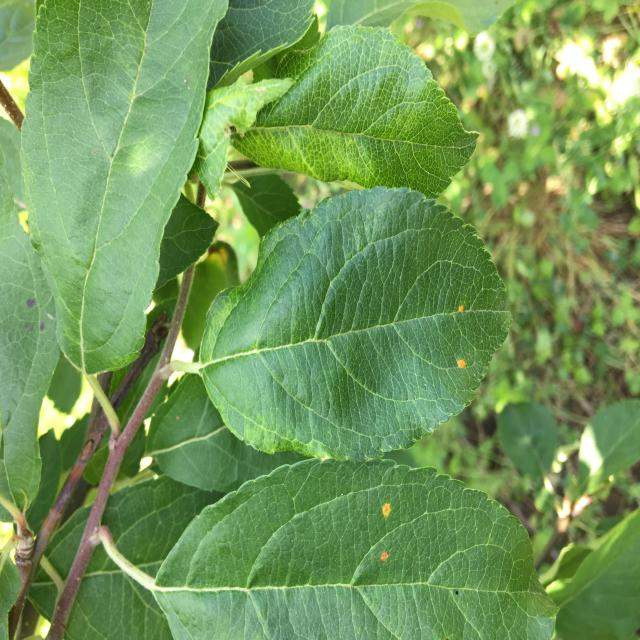rust: (197, 186, 514, 462), (152, 456, 556, 640)
